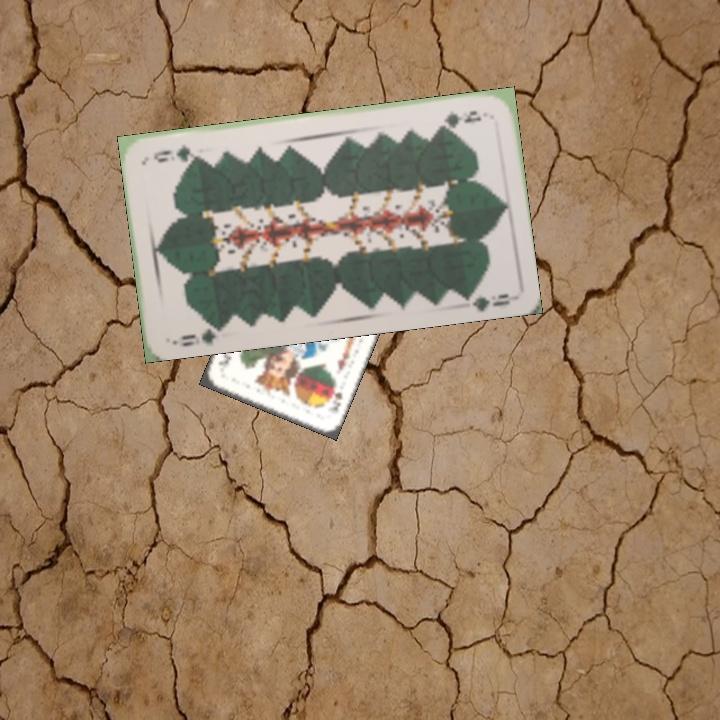G9: (177, 318, 226, 349), (435, 106, 485, 130)
SK: (325, 380, 345, 414)
